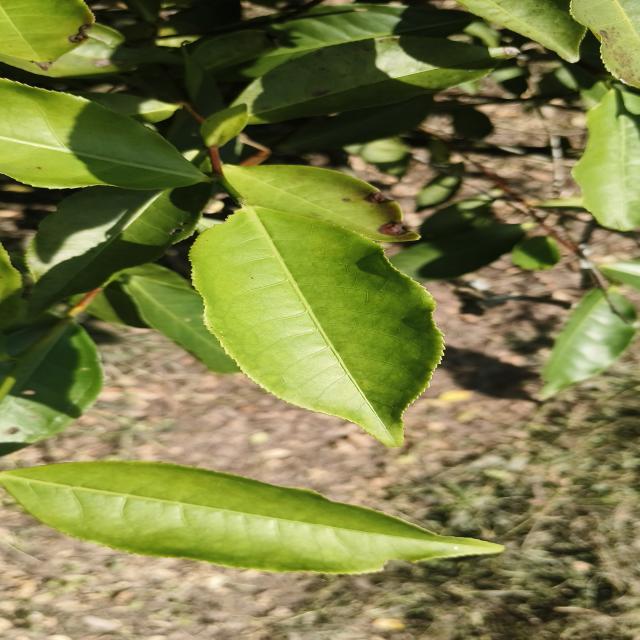Leaf: (190, 206, 442, 446), (0, 461, 502, 573), (26, 185, 209, 312), (0, 79, 209, 190), (234, 36, 497, 124), (183, 4, 471, 81), (223, 164, 419, 242), (0, 323, 102, 455), (120, 264, 239, 373), (540, 287, 637, 399), (573, 88, 640, 231), (456, 0, 585, 62), (390, 224, 525, 282), (0, 0, 94, 68), (570, 0, 640, 88), (512, 236, 560, 270), (7, 324, 50, 357)
